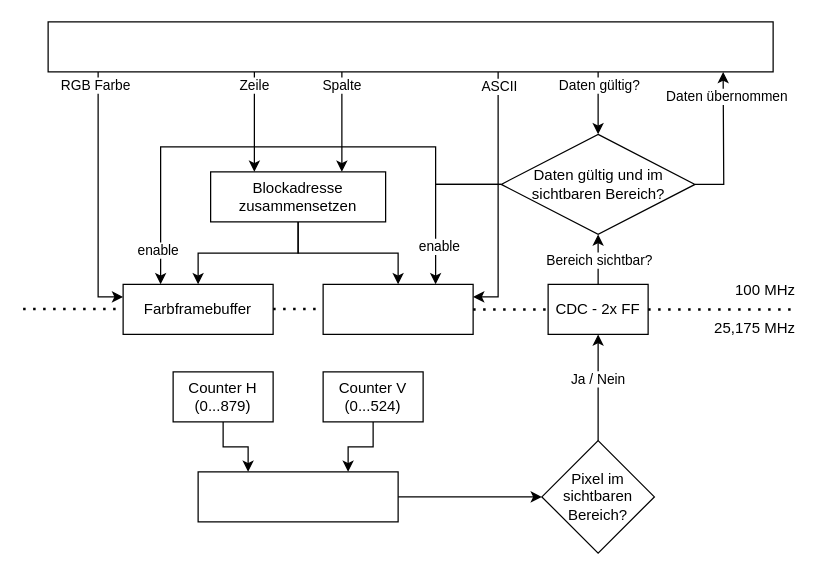
This 821x575 diagram has some shape labels left out. Here are the shapes that lost their labels. From the top down, the centre of each, then its label:
At (410,46): "AXI Wrapper".
At (397,308): "Textframebuffer".
At (297,496): "Pixelkoordinaten zusammensetzen".
